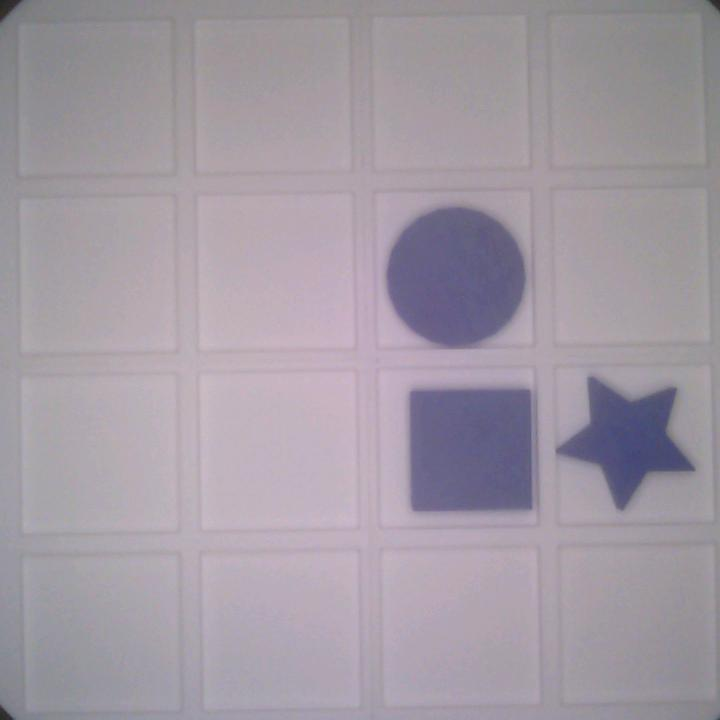Blue circle: (385, 208, 528, 349)
Blue square: (408, 386, 535, 516)
Blue star: (556, 371, 700, 514)
